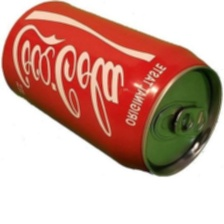can: (0, 0, 224, 182)
